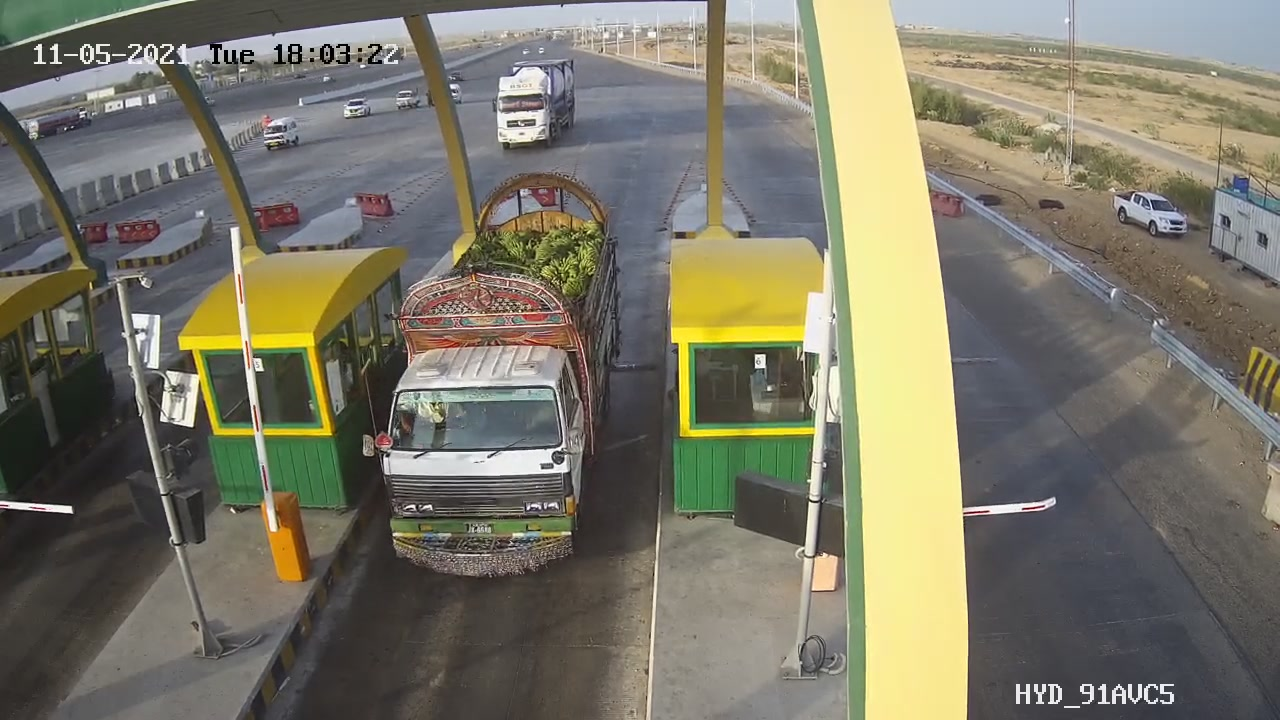F5: (353, 160, 644, 596)
